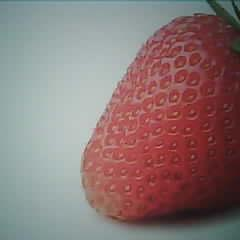straw-ripe: (80, 17, 240, 221)
